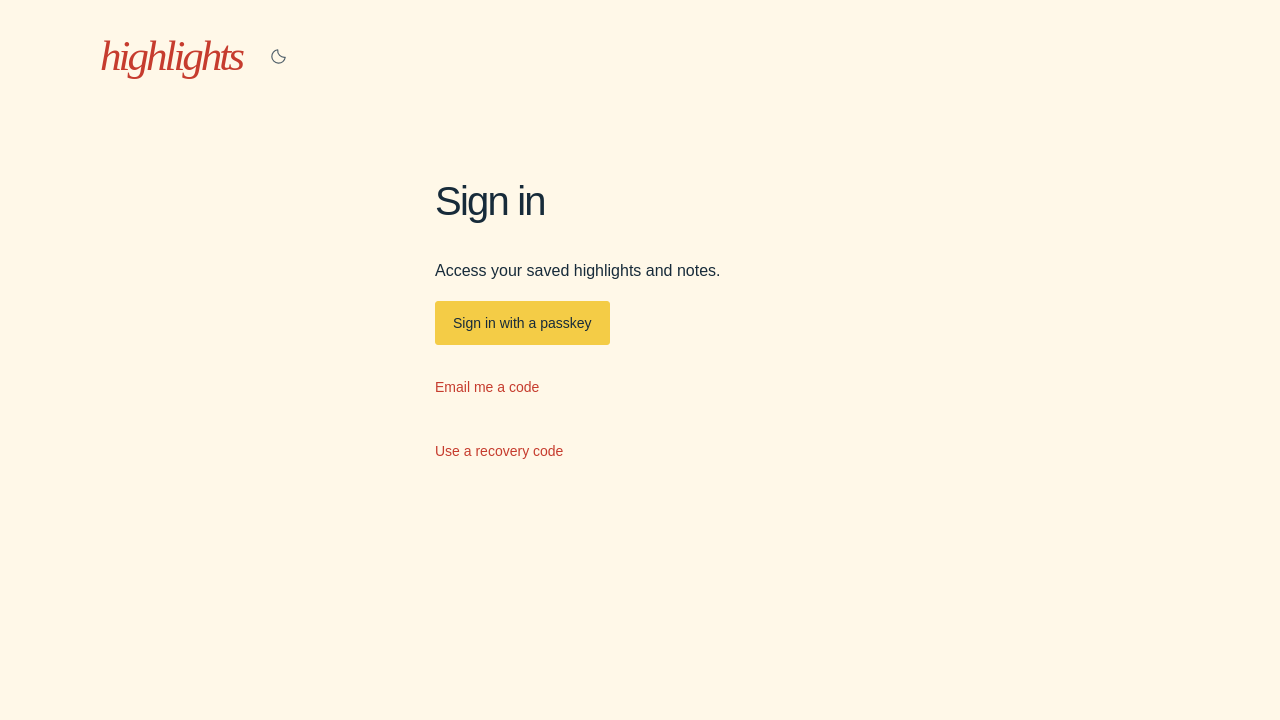
Test: requires sign-in on a fresh browser and accepts only a verified code
Expected: the heading "Library" is not shown
Click the button "Email me a code" at (487, 387), box left=435, top=365, right=845, bottom=409
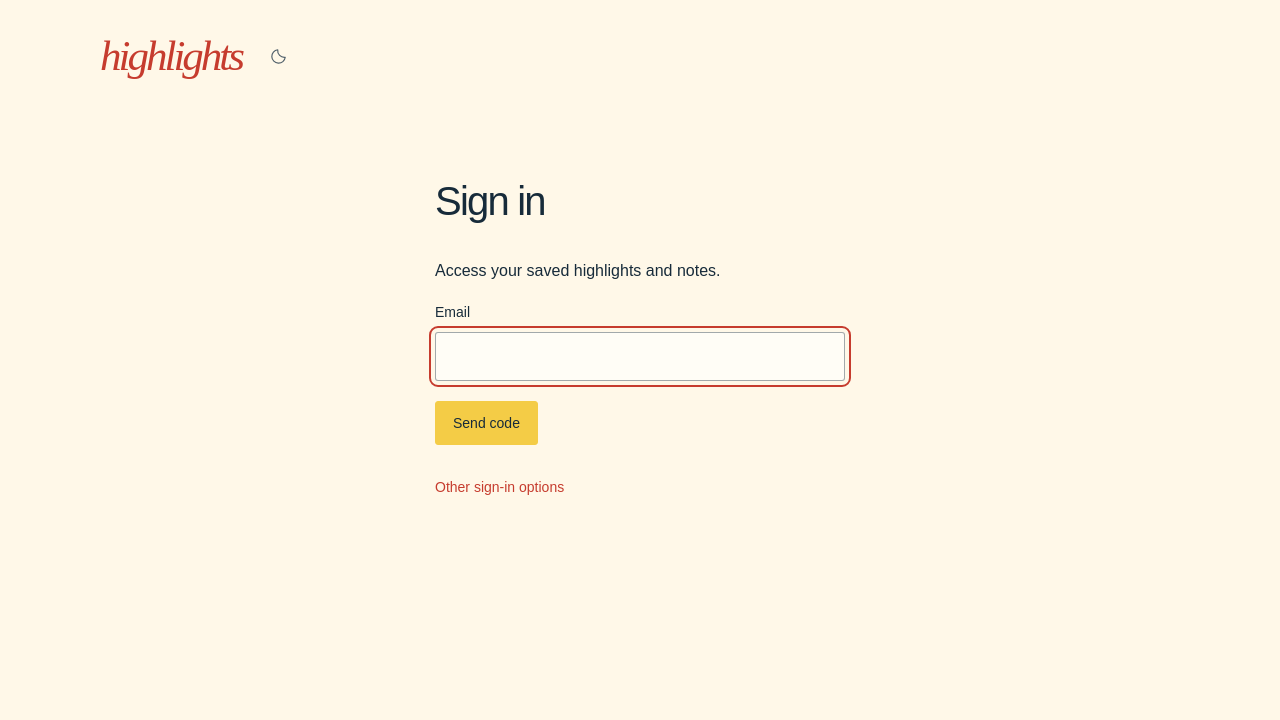
Type "reader@example.test" into the field labelled "Email" at (640, 357), box left=435, top=332, right=845, bottom=381
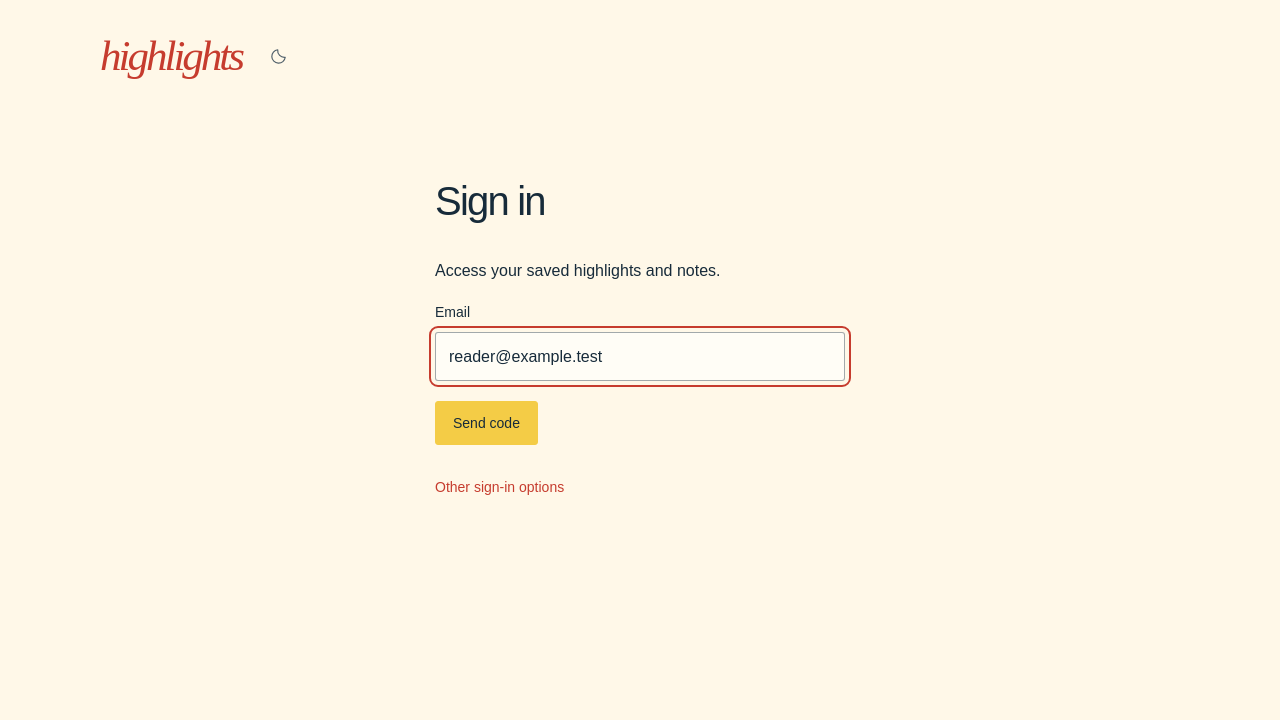
Click the button "Send code" at (486, 423), box left=435, top=401, right=538, bottom=445
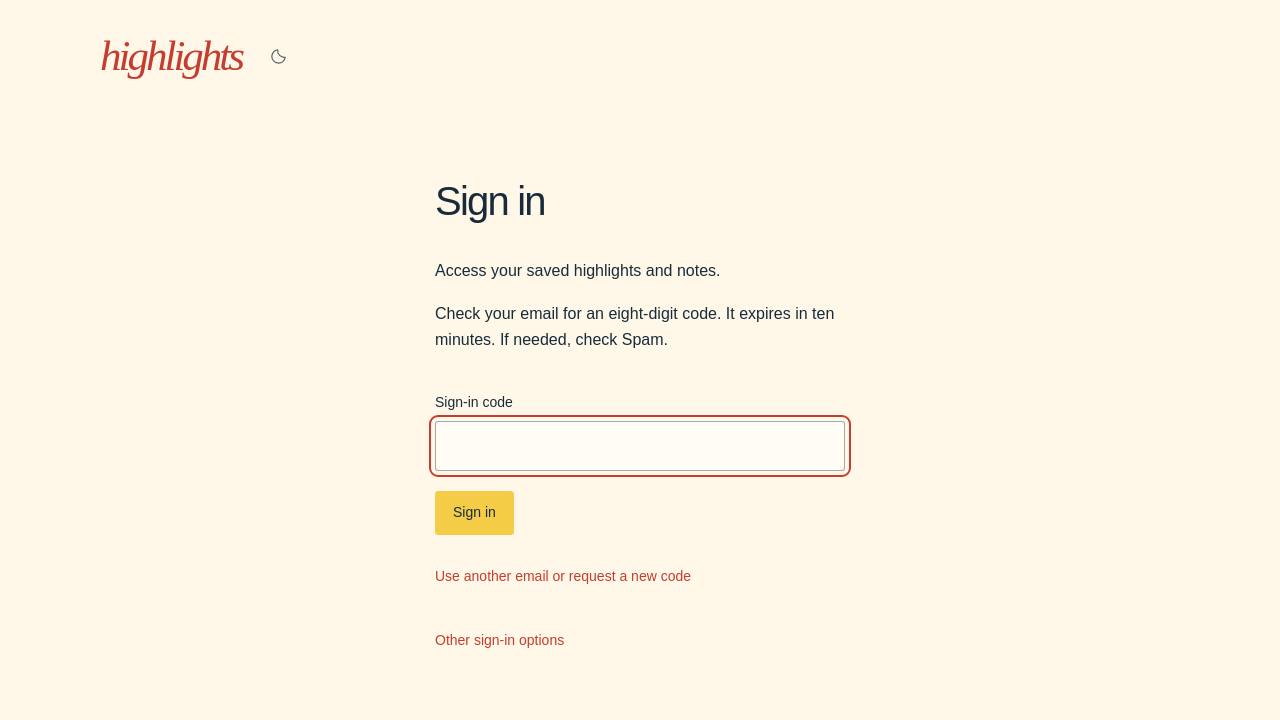
Type "12345678" into the field labelled "Sign-in code" at (640, 446), box left=435, top=421, right=845, bottom=471
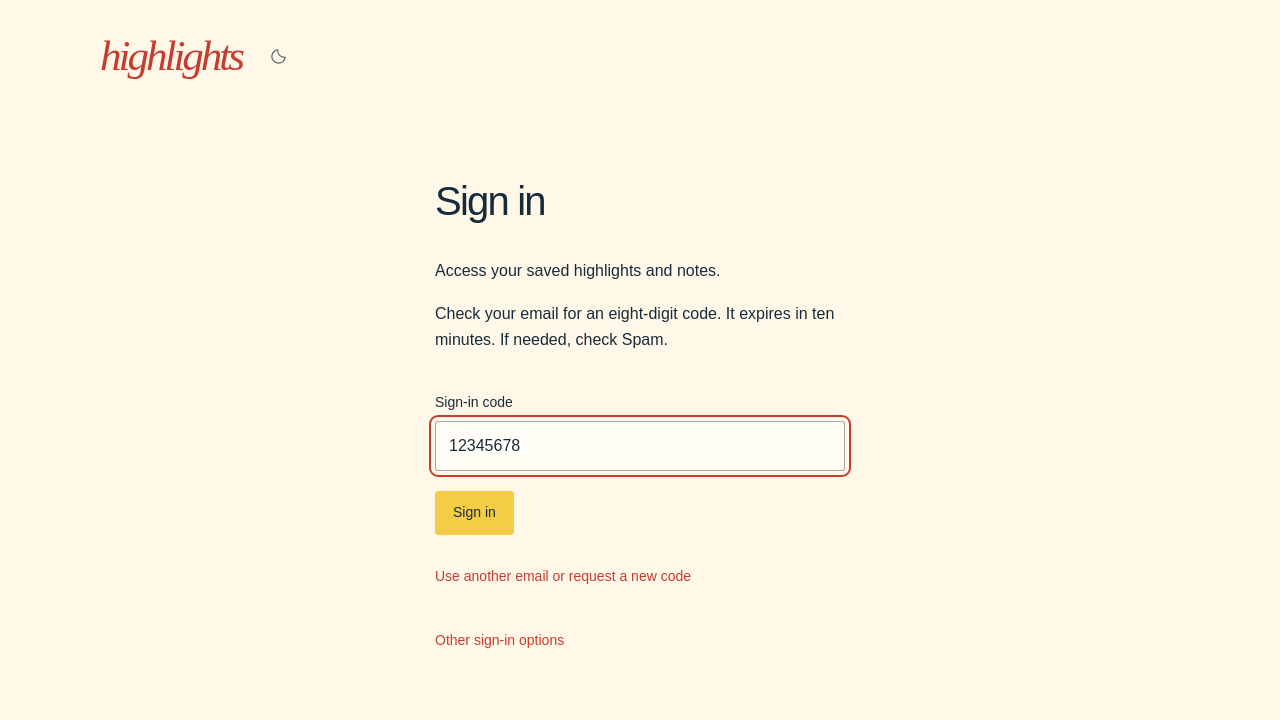
Click the button "Sign in" at (474, 513), box left=435, top=491, right=514, bottom=535
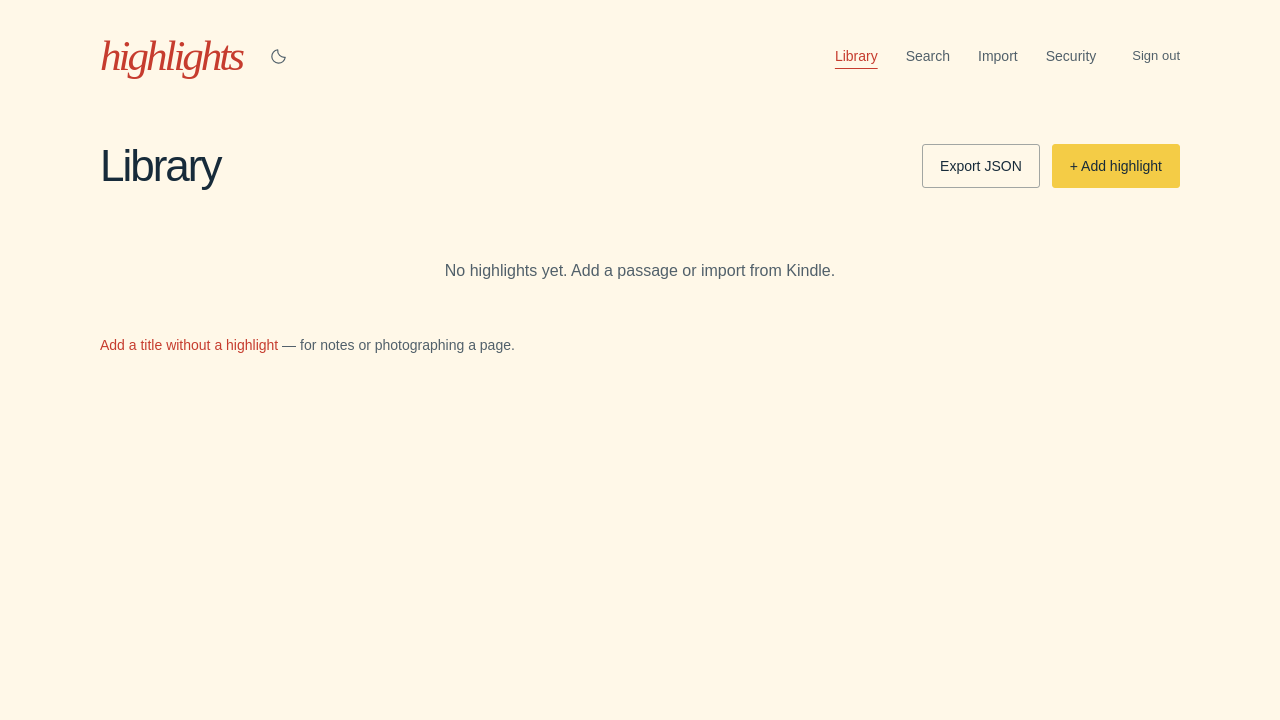
Expected: the heading "Library" is shown, left=100, top=144, right=220, bottom=188
